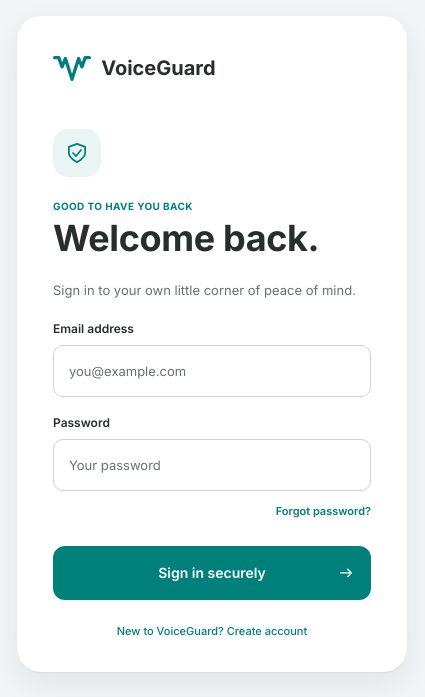
it: SignInPage › locks the form while signing in
The image size is (425, 697).
Type " sam@example.com " into the field labelled "Email address". click: (212, 371)
box: [53,345,371,397]
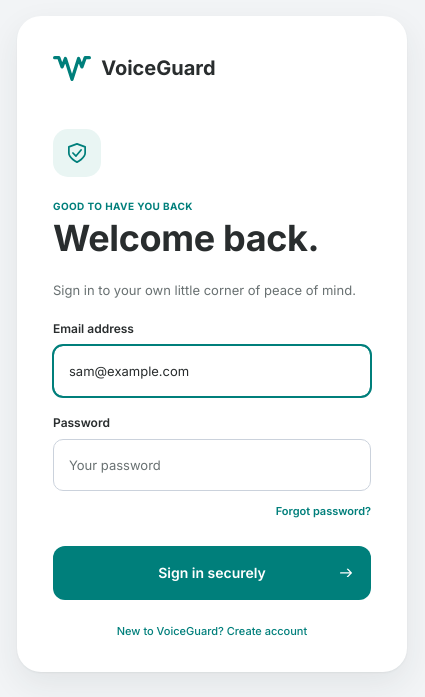
Type "Correct-horse-9" into the password field labelled "Password". click: (212, 465)
box: [53,439,371,491]
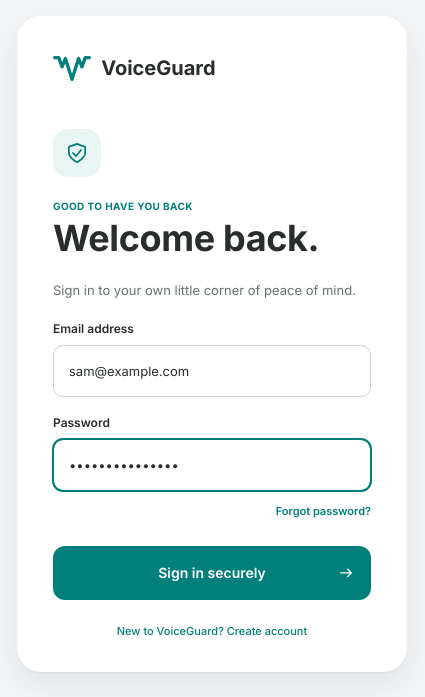
Click the button "Sign in securely". click: (212, 573)
box: [53,546,371,600]
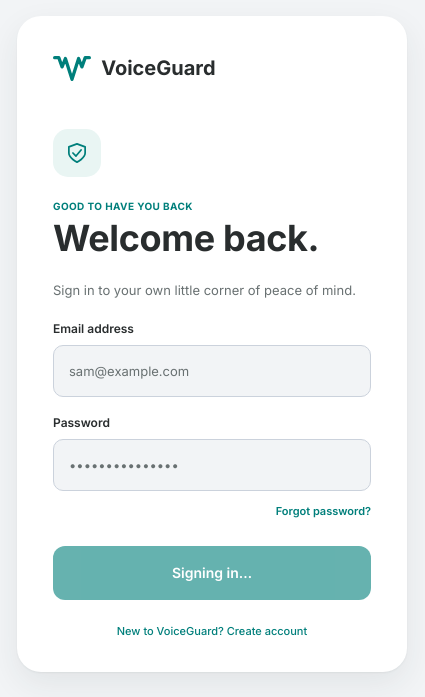
Now the button "Signing in…" is disabled, box [53,546,371,600]
Now the field labelled "Email address" is disabled, box [53,345,371,397]
Now the password field labelled "Password" is disabled, box [53,439,371,491]
